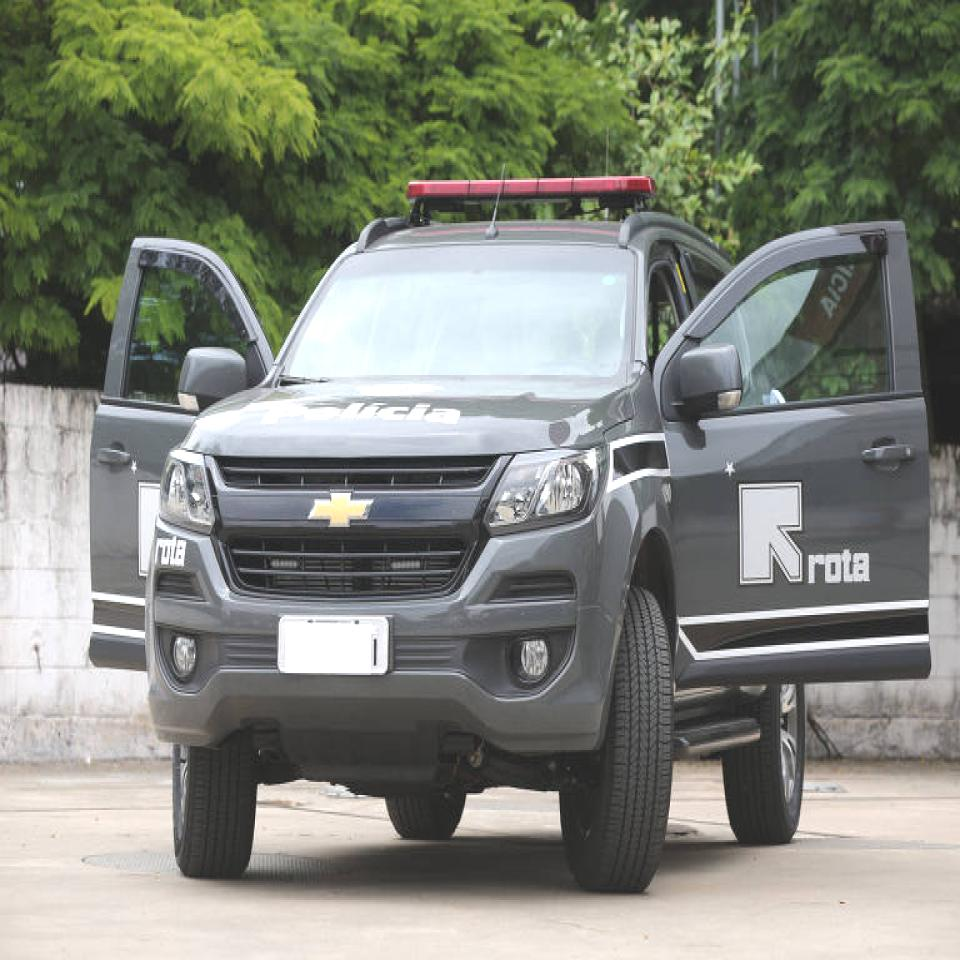viatura: (86, 174, 932, 896)
